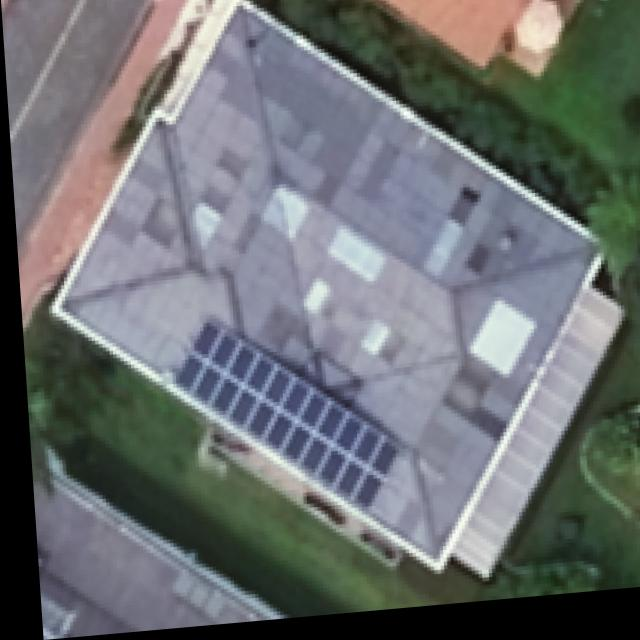Batiment: (47, 4, 617, 585), (372, 0, 584, 87)
